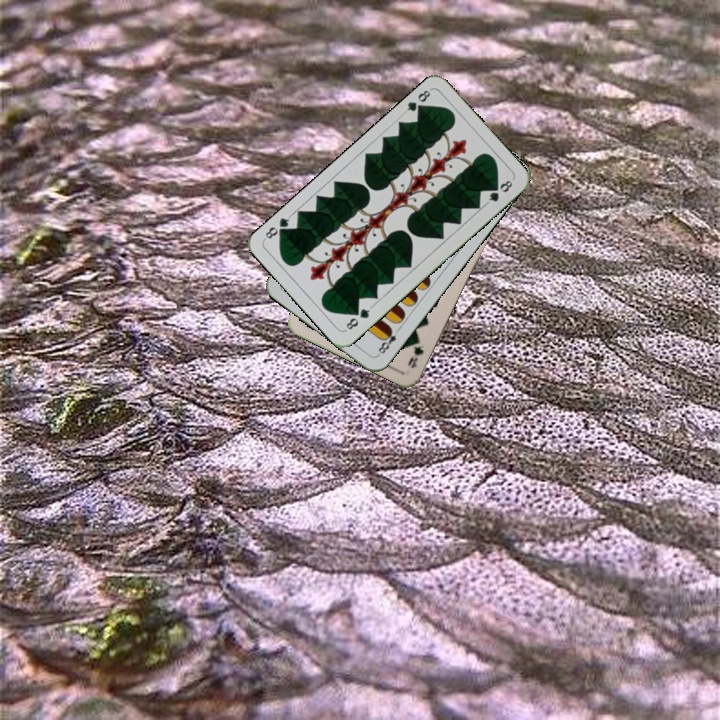E8: (373, 324, 403, 358)
G8: (341, 302, 374, 333), (400, 86, 433, 117)
G9: (403, 342, 427, 371)
